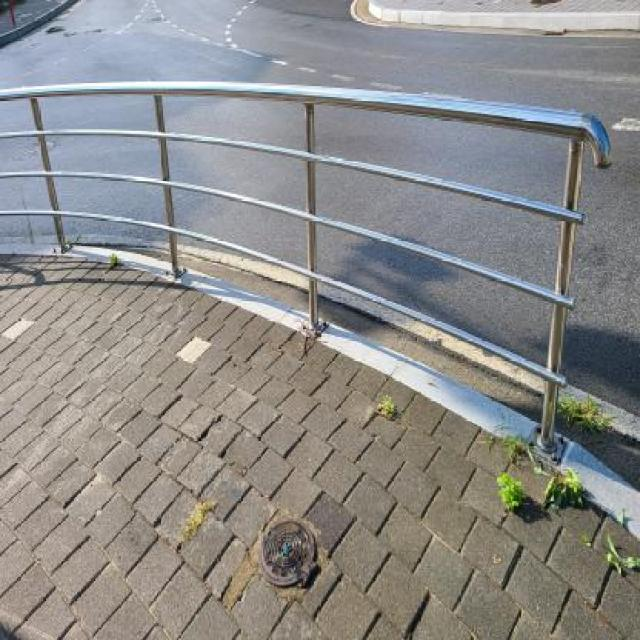fence: (282, 56, 596, 467), (0, 51, 324, 331)
